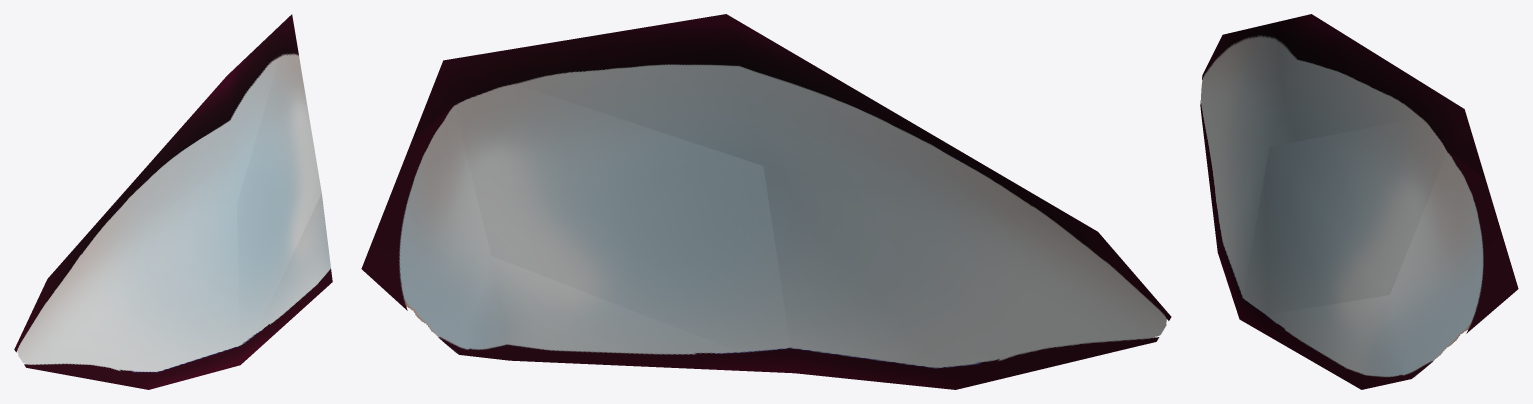
Rendered from pupil mask.FBX.
3 renders of one model, left to right at view 1: azimuth 30°, elevation 25°; view 2: azimuth 150°, elevation 25°; view 3: azimuth 270°, elevation 25°, orthographic. The views are drawn at different scales.
Parts seen in each view (by area): view 1: Group47402; view 2: Group47402; view 3: Group47402.
Boxes of the visible parts, <box> form: Group47402: <box>14,14,332,389</box>; Group47402: <box>361,14,1171,389</box>; Group47402: <box>1200,14,1518,389</box>.
Size of the model in its own units: 1.65 by 0.9833 by 0.9001.
